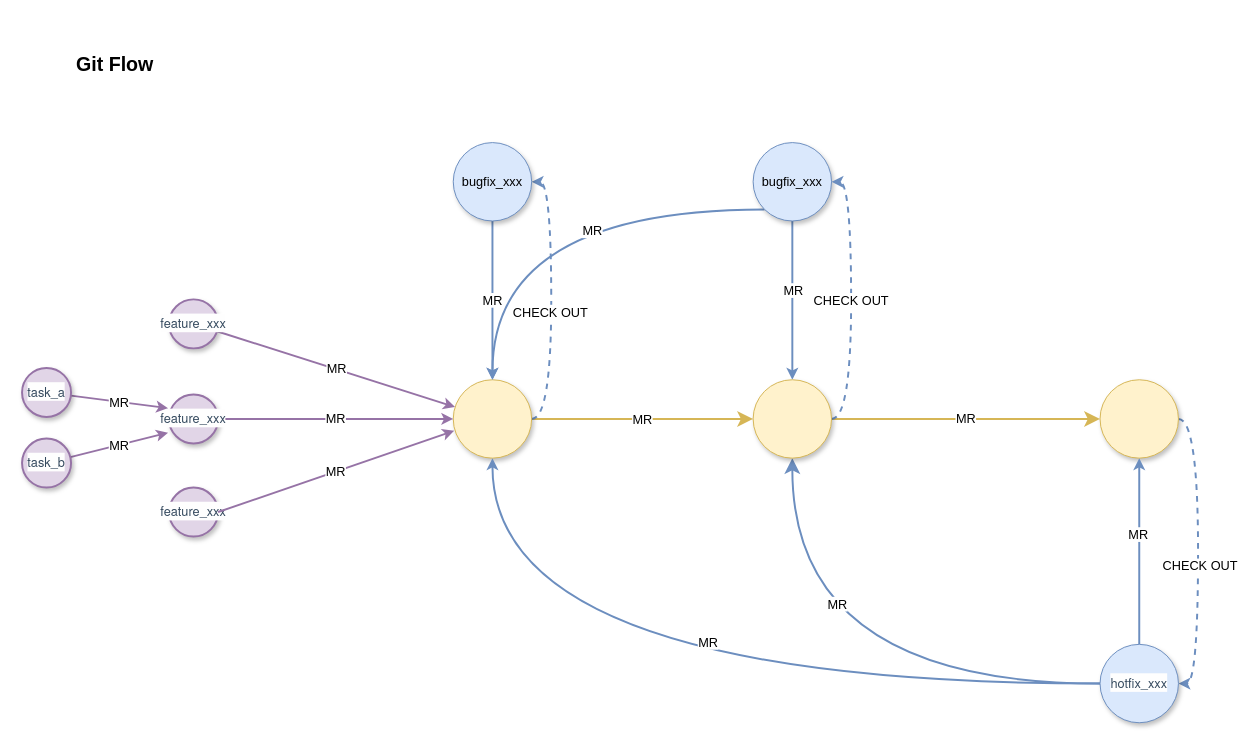
Some shapes in this 1253 by 747 pixel diagram are drawn without their labels. The shapes that lost their labels are listed below. From the top down, each one's centre as x and y in pixels, then its label:
At (x=493, y=420): "develop".
At (x=792, y=420): "release".
At (x=1139, y=420): "master".
